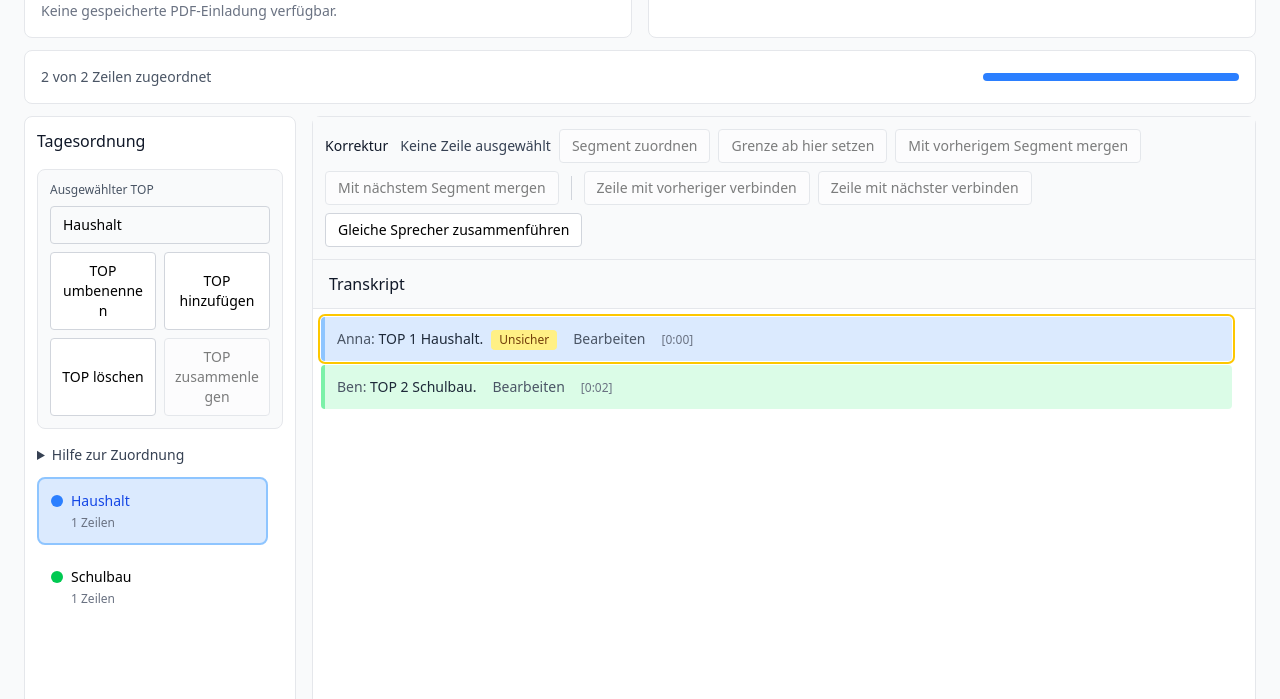
it: agenda proposals across real editor state transitions › does not restore old summary indices when a save finishes after TOP insertion
(page scrolled)
Click the button "TOP 1 Haushalt.": (431, 339) [378,325,483,353]
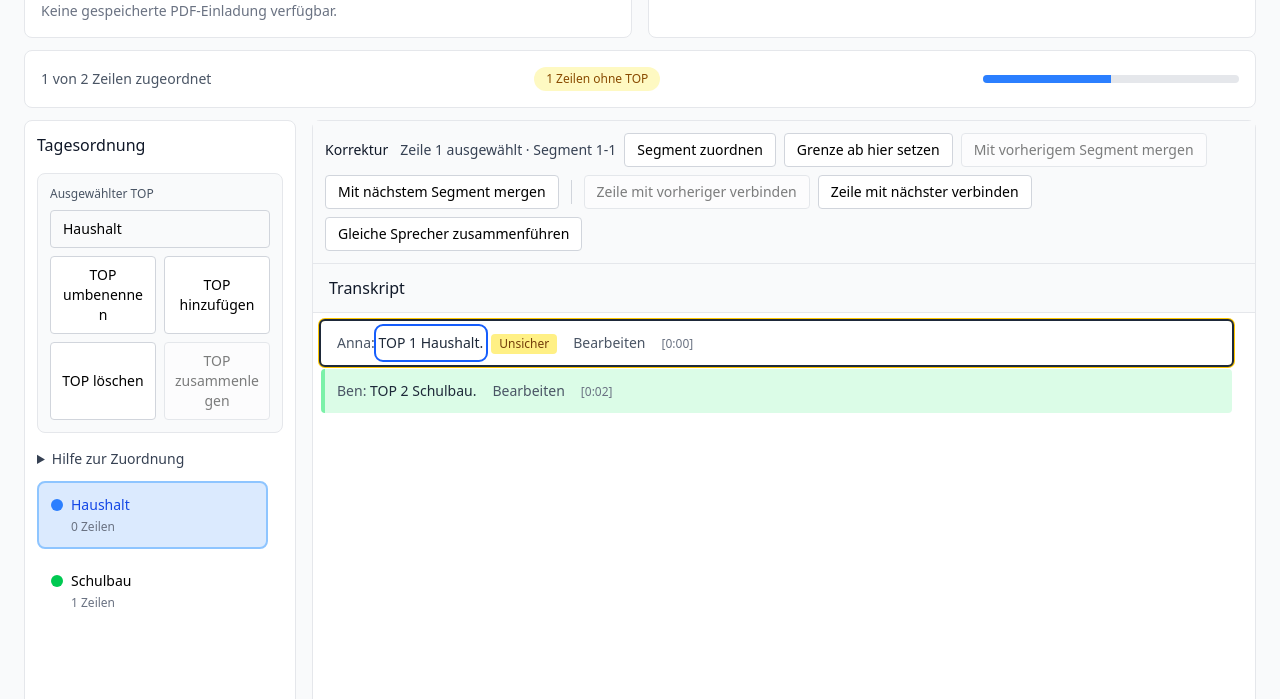
Click the button "TOP hinzufügen": (217, 295) [164,256,270,334]
(page scrolled)
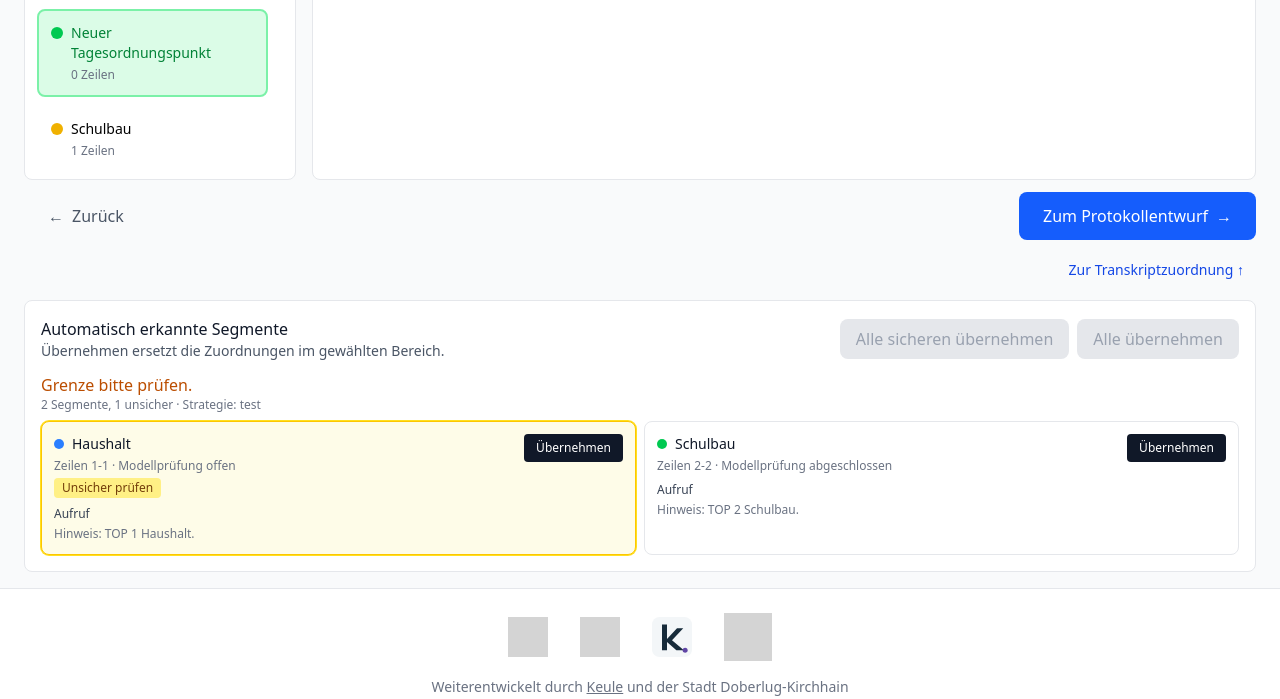
Now the button "Alle übernehmen" is disabled, box [1077,319,1239,359]
